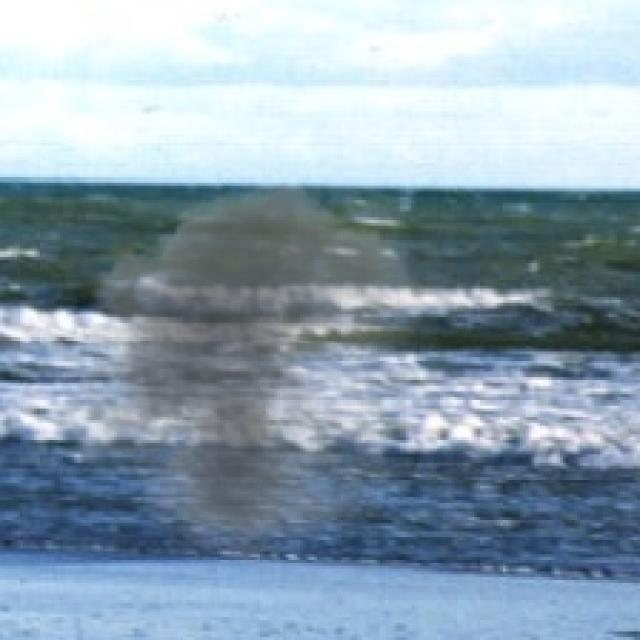smoke: (52, 157, 474, 566)
